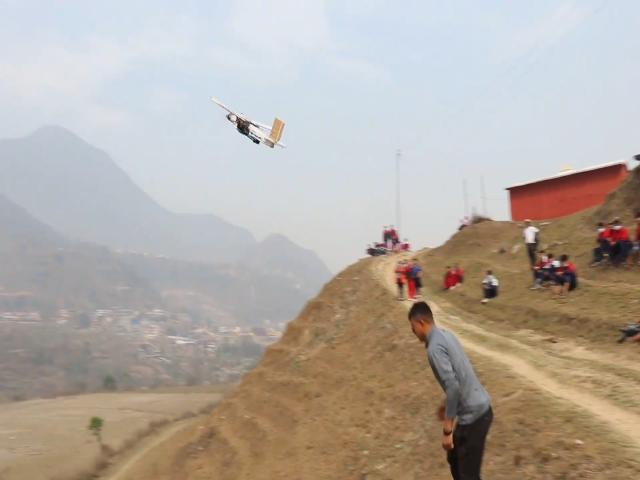plane: (210, 96, 286, 150)
